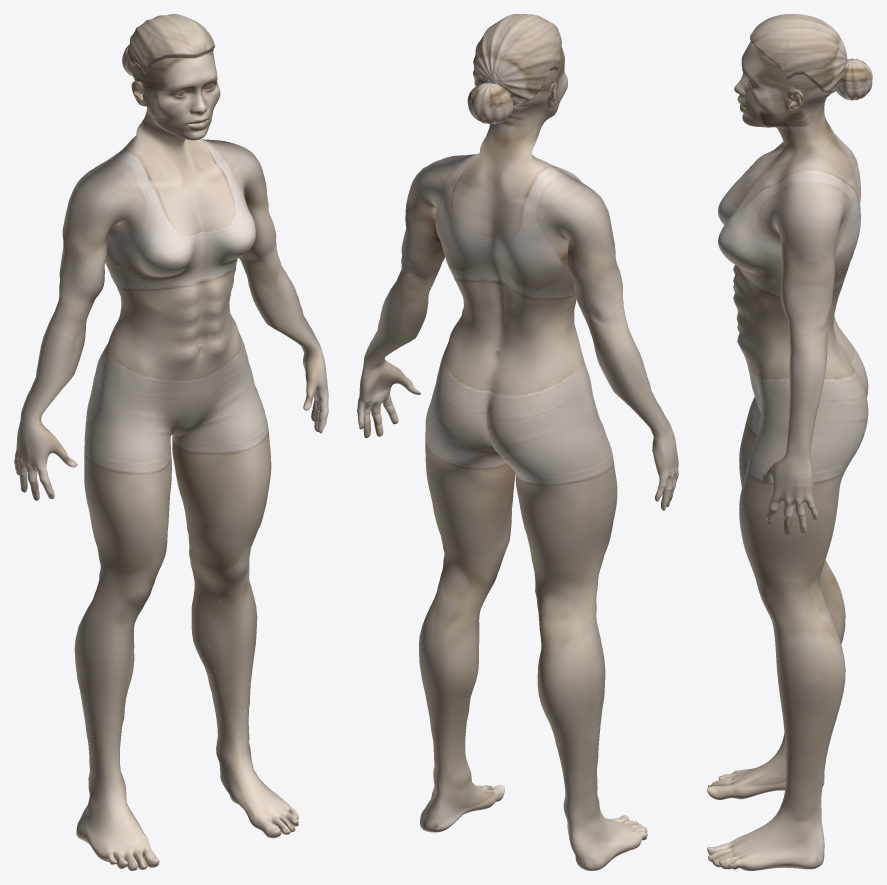
Rendered from female-fixed.glb.
3 views of the same model, side by side, from view 1: azimuth 30°, elevation 25°; view 2: azimuth 150°, elevation 25°; view 3: azimuth 270°, elevation 25° (orthographic). The views are drawn at different scales.
Visible parts, largest first — view 1: fitcheck_body, muscle__obliques__R, muscle__vastus_lateralis__R, muscle__rectus_femoris__R, muscle__rectus_femoris__L, muscle__chest_middle__R, portrait_hair, muscle__abs__R, muscle__chest_middle__L, muscle__tibialis_anterior__L, muscle__forearm_flexors__L, muscle__abs__L (+21 smaller); view 2: fitcheck_body, portrait_hair, muscle__gluteus_maximus__L, muscle__hamstrings_lateral__R, muscle__lats__R, muscle__hamstrings_medial__L, muscle__gluteus_maximus__R, muscle__gastrocnemius_lateral__R, muscle__gastrocnemius_medial__L, muscle__forearm_extensors__R, muscle__gluteus_medius__R, muscle__forearm_extensors__L (+29 smaller); view 3: fitcheck_body, portrait_hair, muscle__vastus_lateralis__L, muscle__obliques__L, muscle__hamstrings_lateral__L, muscle__chest_middle__L, muscle__chest_lower__L, muscle__gluteus_medius__L, muscle__deltoid_lateral__L, muscle__brachioradialis__L, muscle__gastrocnemius_lateral__L, muscle__soleus__L (+22 smaller).
Part boxes in pixels (x1,y1,x2,y2): fitcheck_body: (14,50,328,870); muscle__obliques__R: (102,296,172,400); muscle__vastus_lateralis__R: (85,446,136,578); muscle__rectus_femoris__R: (126,432,166,574); muscle__rectus_femoris__L: (213,417,267,550); muscle__chest_middle__R: (131,196,198,267); portrait_hair: (127,14,215,75); muscle__abs__R: (163,278,199,401); muscle__chest_middle__L: (199,173,255,251); muscle__tibialis_anterior__L: (215,588,252,760); muscle__forearm_flexors__L: (249,263,320,356); muscle__abs__L: (202,273,228,397); fitcheck_body: (357,23,678,870); portrait_hair: (473,14,561,106); muscle__gluteus_maximus__L: (425,397,503,486); muscle__hamstrings_lateral__R: (544,491,597,625); muscle__lats__R: (509,290,570,394); muscle__hamstrings_medial__L: (447,473,502,599); muscle__gluteus_maximus__R: (488,408,585,508); muscle__gastrocnemius_lateral__R: (546,647,593,745); muscle__gastrocnemius_medial__L: (441,608,480,716); muscle__forearm_extensors__R: (589,322,665,437); muscle__gluteus_medius__R: (513,385,588,459); muscle__forearm_extensors__L: (364,272,420,367); fitcheck_body: (707,41,861,870); portrait_hair: (750,14,847,93); muscle__vastus_lateralis__L: (748,451,807,585); muscle__obliques__L: (746,302,796,401); muscle__hamstrings_lateral__L: (799,495,838,615); muscle__chest_middle__L: (718,187,769,254); muscle__chest_lower__L: (721,234,782,282); muscle__gluteus_medius__L: (816,387,867,440); muscle__deltoid_lateral__L: (790,172,818,243); muscle__brachioradialis__L: (792,324,819,402); muscle__gastrocnemius_lateral__L: (820,635,845,731); muscle__soleus__L: (785,716,832,803).
Size of the model in its own units: 0.6682 by 1.69 by 0.3123.
Materials: 1 (1 with a texture image).
